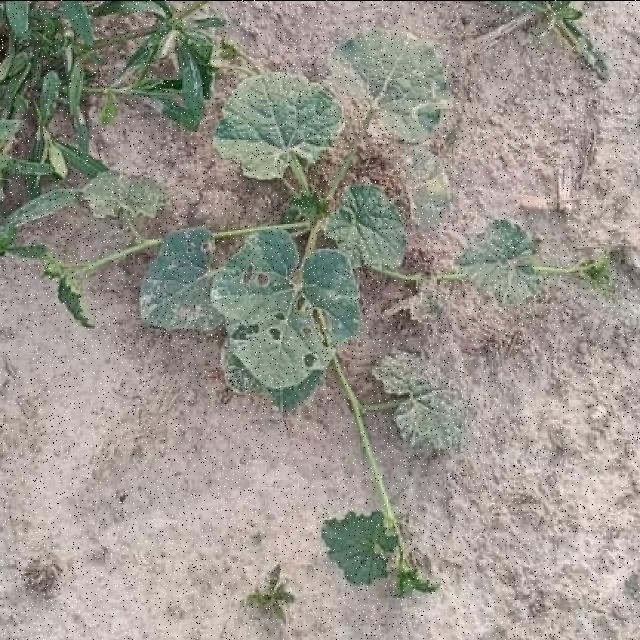plant: (139, 28, 596, 597), (375, 351, 464, 448)
